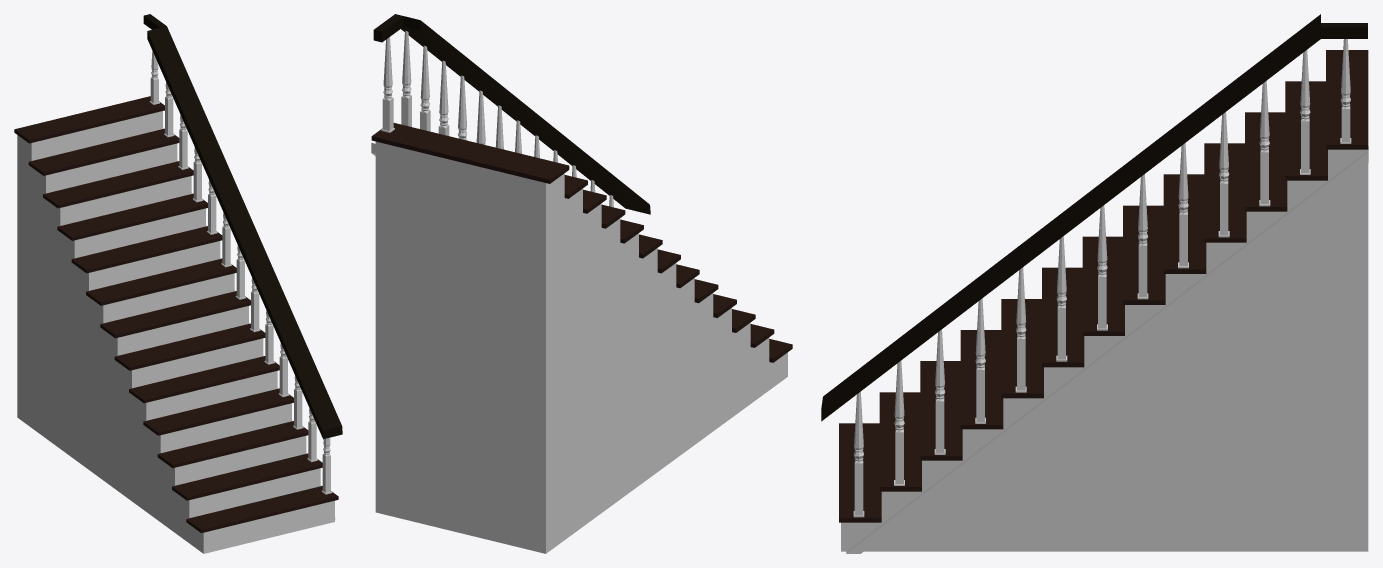
The model's file is StairsModern.glb.
3 views of the same model, side by side, from view 1: azimuth 30°, elevation 25°; view 2: azimuth 150°, elevation 25°; view 3: azimuth 270°, elevation 25° (orthographic). The views are drawn at different scales.
Visible parts, largest first — view 1: Node; view 2: Node; view 3: Node.
Boxes of the visible parts, x1,y1,x2,y2 form: Node: (14,14,342,553); Node: (371,14,792,553); Node: (821,14,1368,553).
Bounding box in the file's own units: 5.54 × 14.28 × 13.49.
